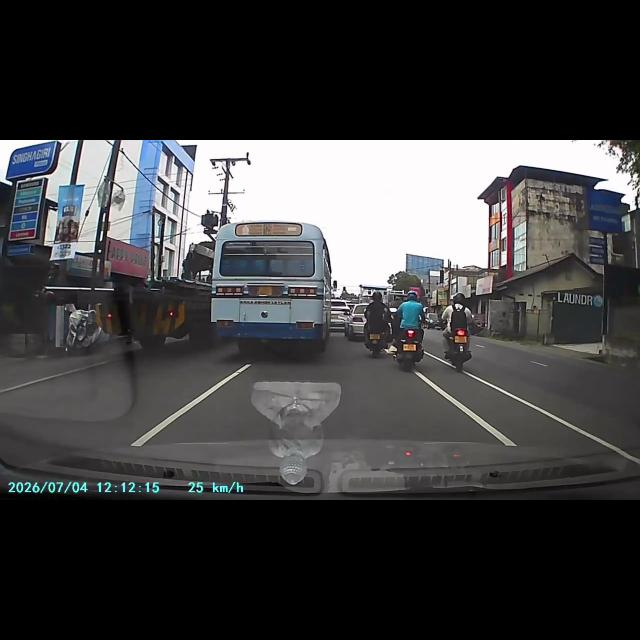bus: (220, 224, 326, 344)
car: (327, 295, 351, 333), (352, 302, 366, 338)
double_solid_line: (436, 382, 554, 442)
helmet: (410, 289, 422, 305), (371, 288, 384, 302), (454, 294, 464, 306)
motorcycle: (444, 331, 471, 367), (400, 332, 428, 366), (362, 326, 388, 352)
number_plate: (449, 334, 467, 344), (402, 344, 416, 354), (368, 334, 382, 341)
person: (450, 294, 466, 348), (402, 292, 418, 342), (370, 294, 386, 336)
truck: (88, 273, 208, 335)
